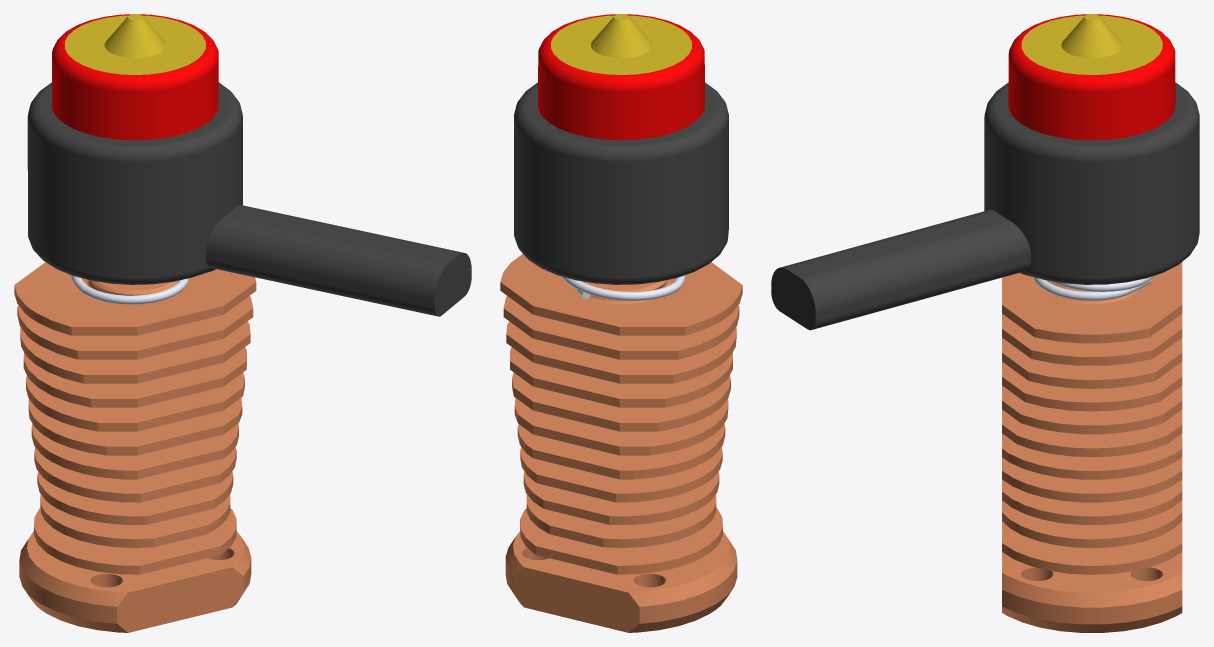
Rendered from revo-voron.gltf.
The picture shows the model from 3 angles, left to right: view 1: azimuth 30°, elevation 25°; view 2: azimuth 150°, elevation 25°; view 3: azimuth 270°, elevation 25°; orthographic projection.
Visible parts, largest first — view 1: Revo Voron Reference CAD; view 2: Revo Voron Reference CAD; view 3: Revo Voron Reference CAD.
Boxes of the visible parts, <box> form: Revo Voron Reference CAD: <box>14,14,471,632</box>; Revo Voron Reference CAD: <box>500,14,742,632</box>; Revo Voron Reference CAD: <box>771,14,1199,632</box>.
Size of the model in its own units: 0.0272 by 0.0488 by 0.0332.
